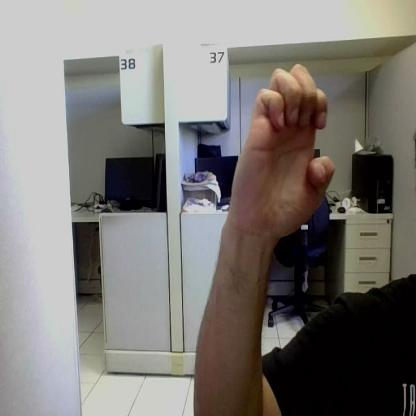E: (233, 64, 334, 234)
